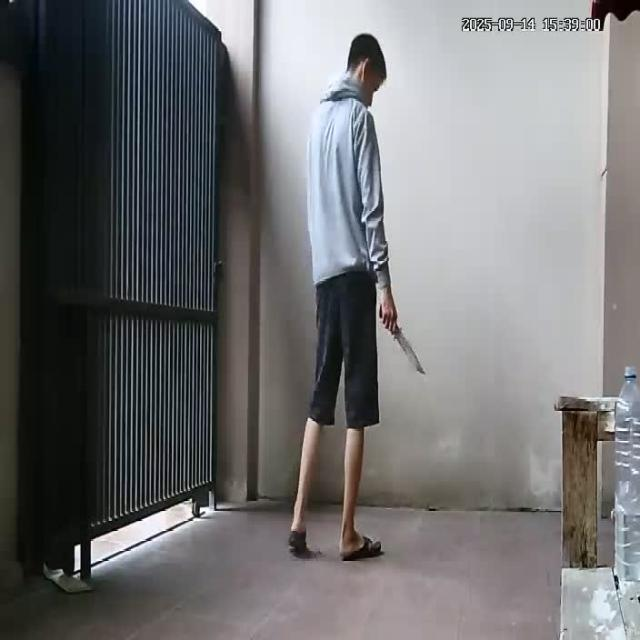senjata_tajam: (394, 326, 429, 377)
